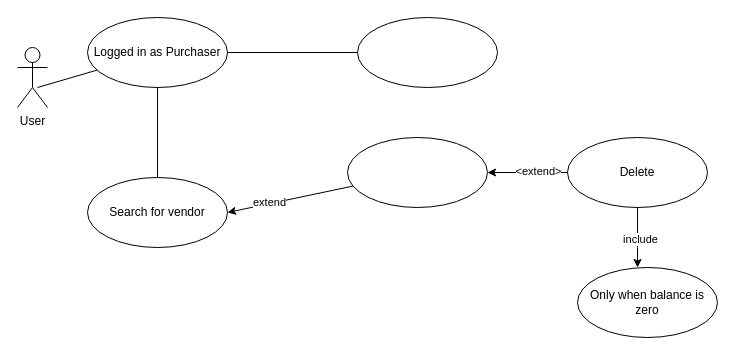
Image size: 735x355. Some labels were removed from this diagram. Here are the shapes that lost their labels. From the top down, the centre of each, then its label:
the point at 427,52: Create Vendor Profile
the point at 417,172: Update Vendor
